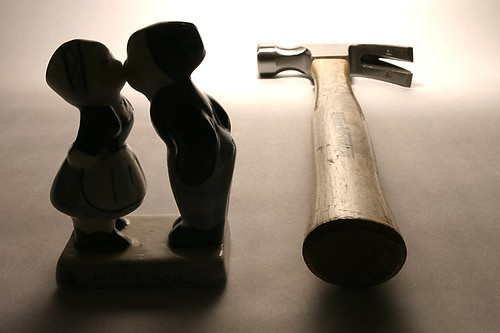hammer: (251, 30, 423, 285)
